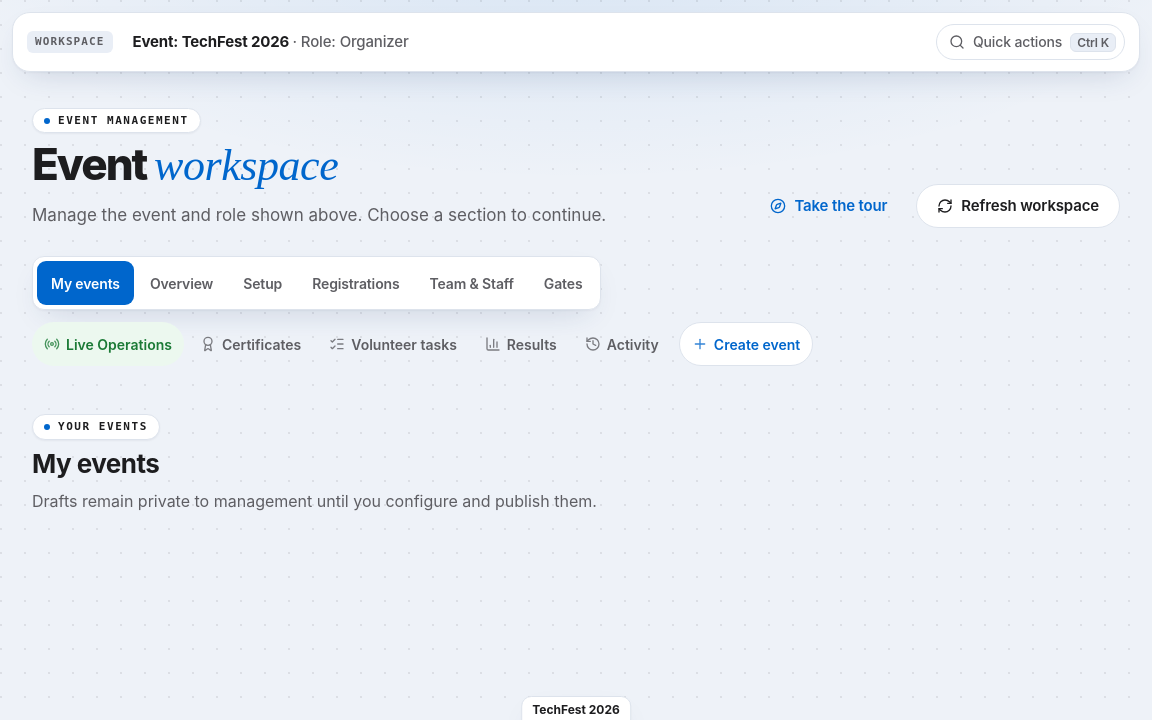
P1-B workspace workflows › guides a Draft from required setup through publication and admission
The width and height of the screenshot is (1152, 720).
Click the button "Setup" at [263, 283], box [229, 261, 296, 305]
(page scrolled)
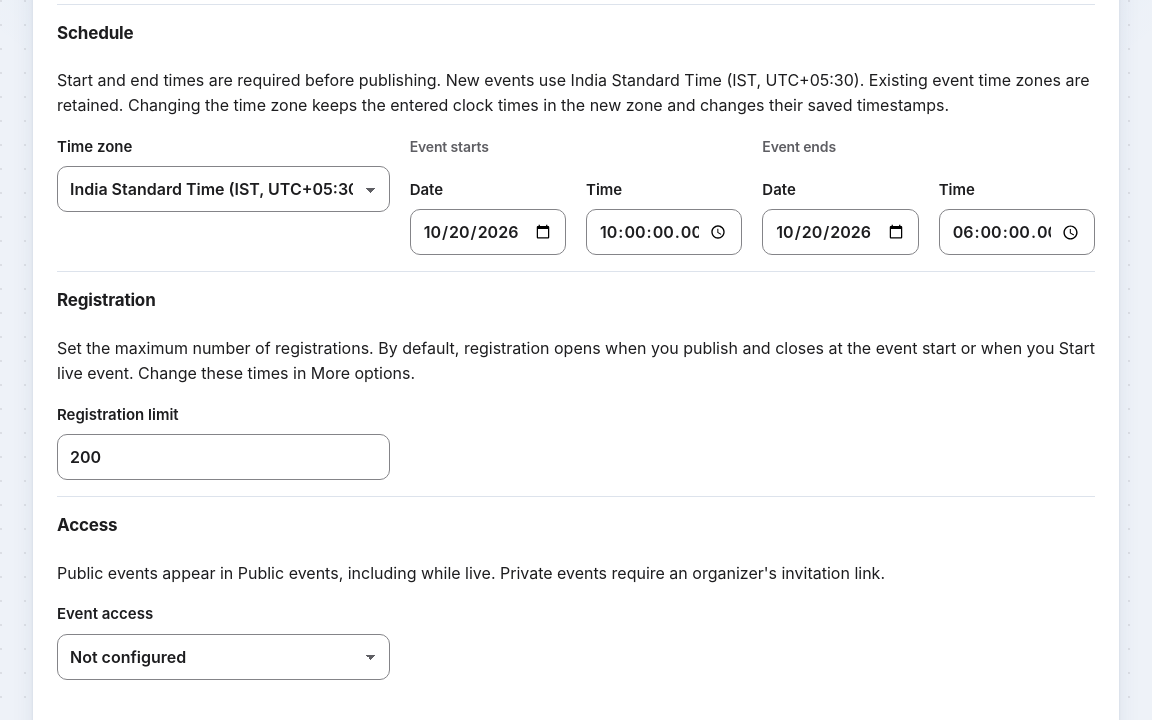
Check: the text "Start and end times are required before publishing" is shown, box [57, 70, 1090, 115]
Check: the text "By default, registration opens when you publish" is shown, box [57, 338, 1095, 383]
